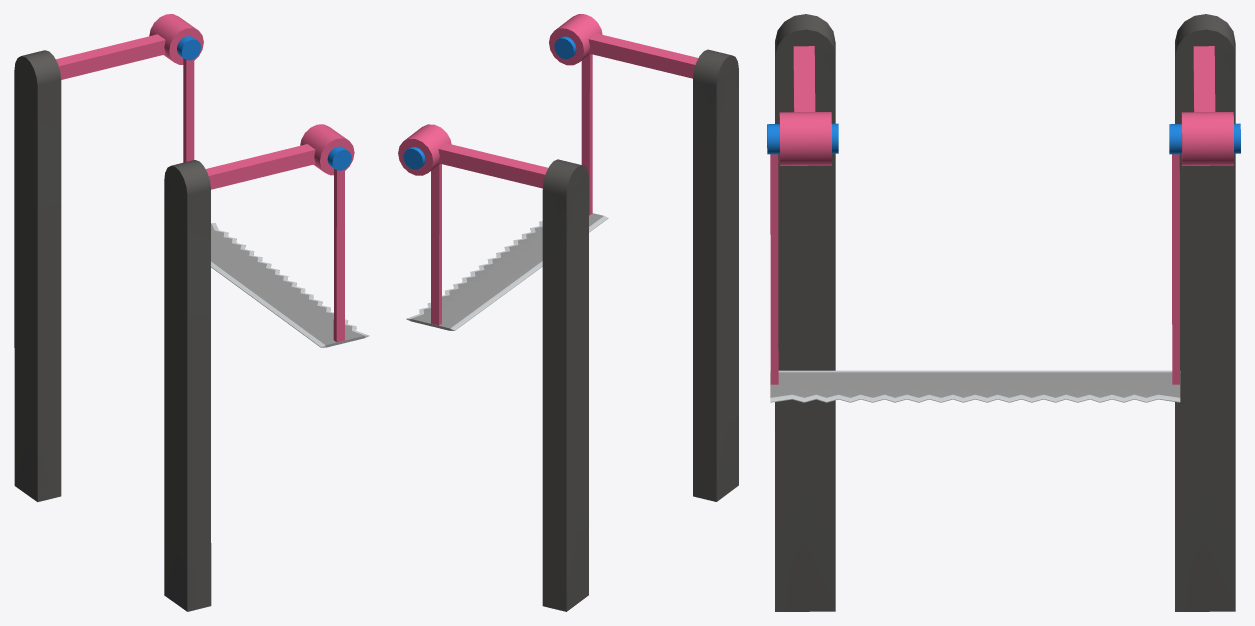
The model's file is trap_015.fbx.
3 renders of one model, left to right at view 1: azimuth 30°, elevation 25°; view 2: azimuth 150°, elevation 25°; view 3: azimuth 270°, elevation 25°, orthographic. The views are drawn at different scales.
Visible parts, largest first — view 1: trap_015, trap_015_rotate; view 2: trap_015, trap_015_rotate; view 3: trap_015, trap_015_rotate.
Boxes of the visible parts, x1,y1,x2,y2 form: trap_015: (14,14,354,611); trap_015_rotate: (183,58,369,347); trap_015: (398,14,738,611); trap_015_rotate: (406,54,608,330); trap_015: (767,14,1240,611); trap_015_rotate: (770,154,1180,402).
Size of the model in its own units: 1382 by 3189 by 2352.
